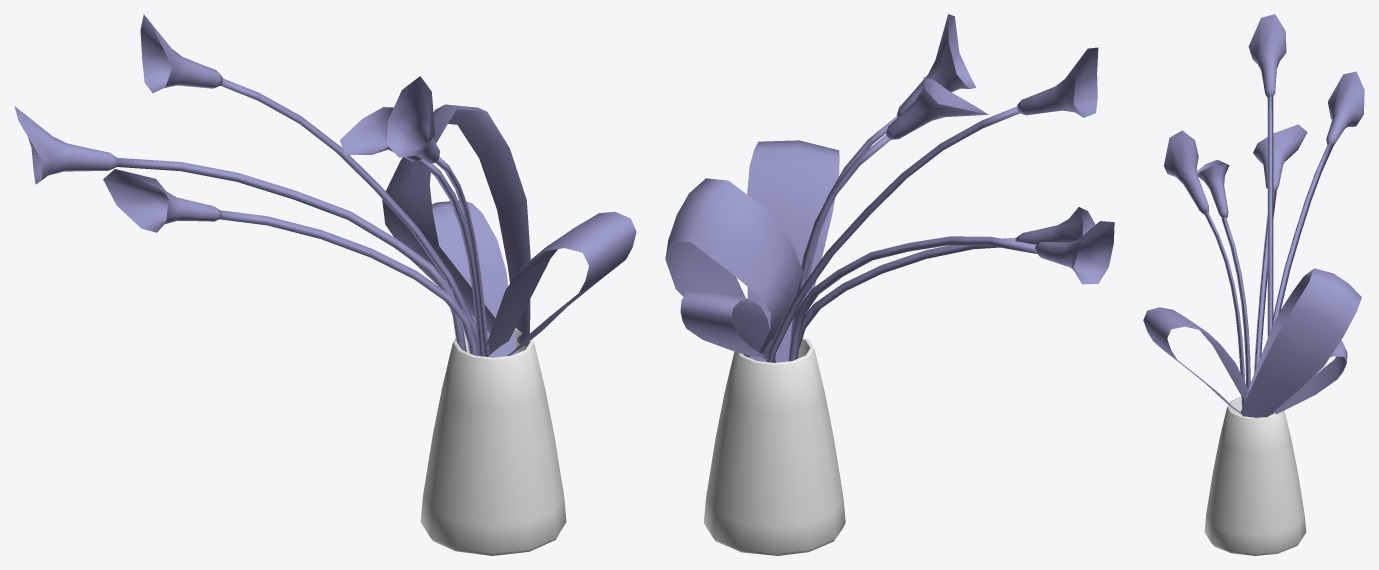
The model's file is Plant09.FBX.
3 renders of one model, left to right at view 1: azimuth 30°, elevation 25°; view 2: azimuth 150°, elevation 25°; view 3: azimuth 270°, elevation 25°, orthographic. The views are drawn at different scales.
Visible parts, largest first — view 1: Plant09; view 2: Plant09; view 3: Plant09.
Boxes of the visible parts, box(x1,y1,x2,y2) form: Plant09: box(14, 14, 636, 555); Plant09: box(665, 14, 1114, 555); Plant09: box(1143, 14, 1364, 555).
Bounding box in the file's own units: 40.03 × 22.38 × 45.41.
